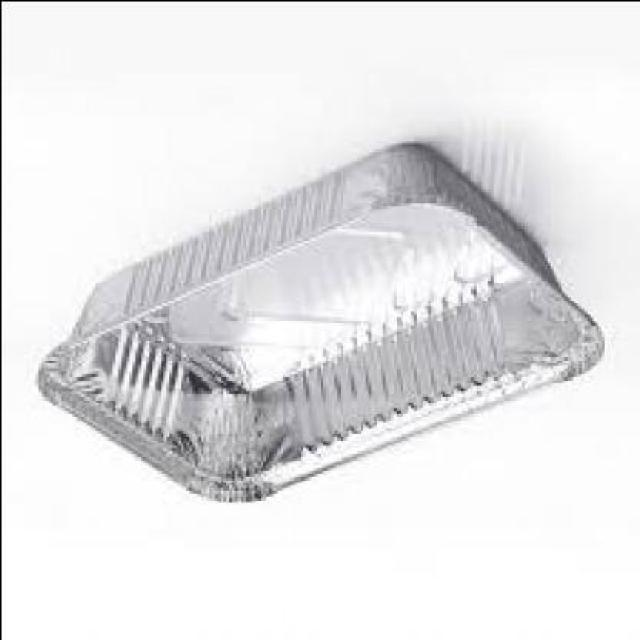METAL: (37, 142, 606, 507)
